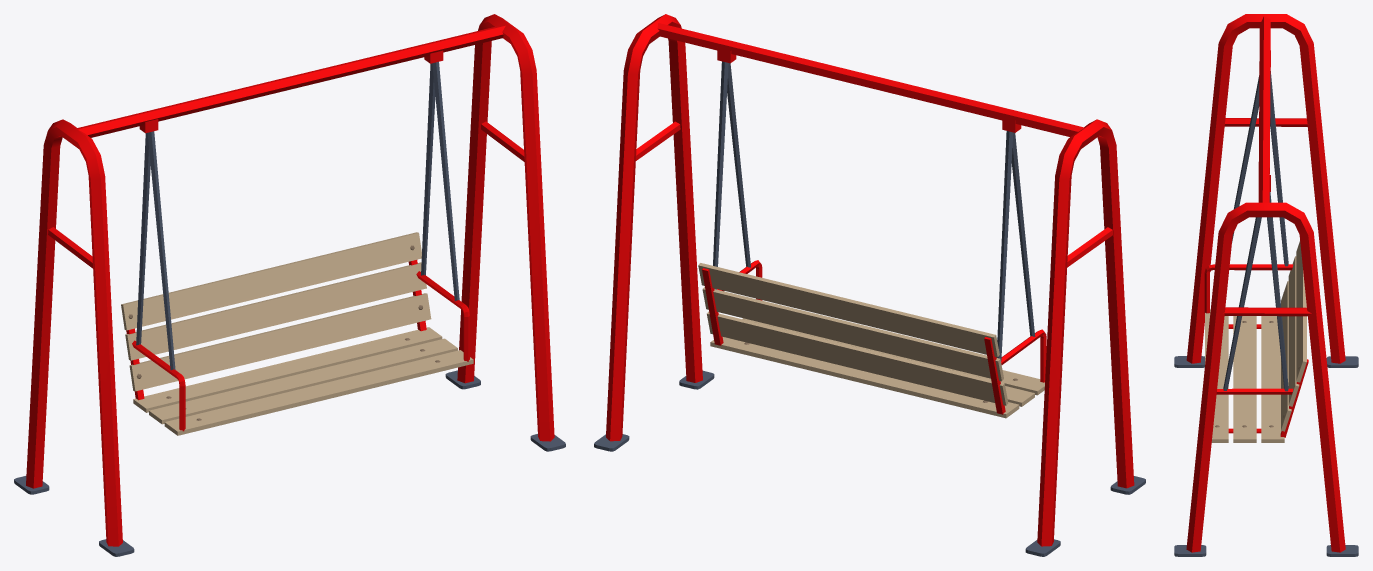
Rendered from SM_Swings_04.fbx.
3 renders of one model, left to right at view 1: azimuth 30°, elevation 25°; view 2: azimuth 150°, elevation 25°; view 3: azimuth 270°, elevation 25°, orthographic. The views are drawn at different scales.
Visible parts, largest first — view 1: SM_Swings_04; view 2: SM_Swings_04; view 3: SM_Swings_04.
Part boxes in pixels (x1=…): SM_Swings_04: x1=14, y1=14, x2=565, y2=556; SM_Swings_04: x1=594, y1=14, x2=1145, y2=556; SM_Swings_04: x1=1174, y1=14, x2=1358, y2=556.
Bounding box in the file's own units: 307 × 253 × 121.
1 material, 1 textured.
